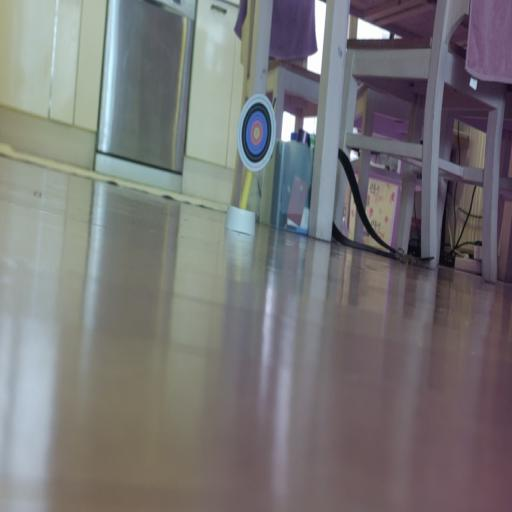target: (237, 95, 276, 171)
